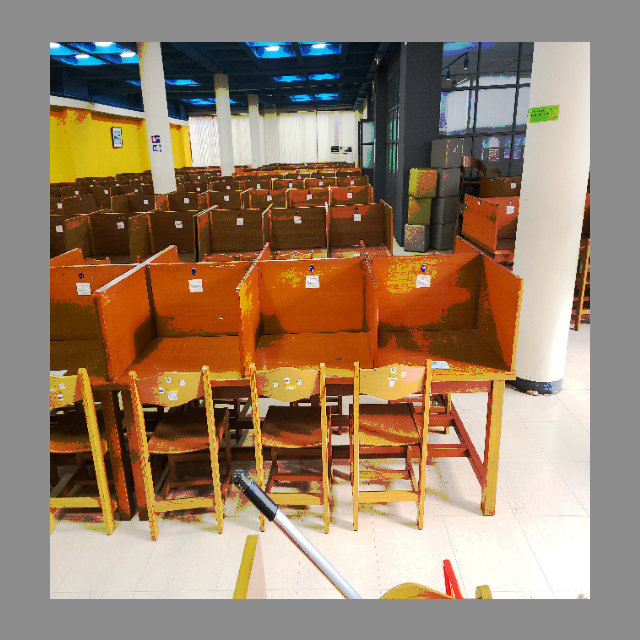empty: (376, 256, 518, 446), (242, 258, 372, 446), (109, 258, 235, 450)
